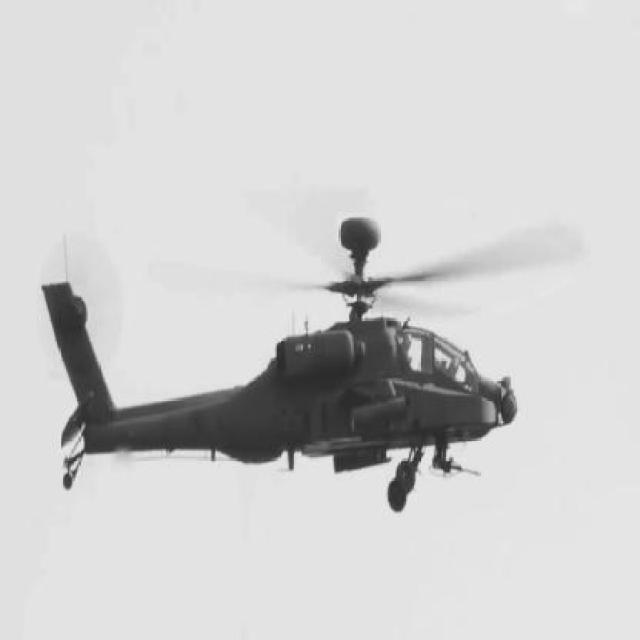Helicopter: (39, 194, 588, 520)
